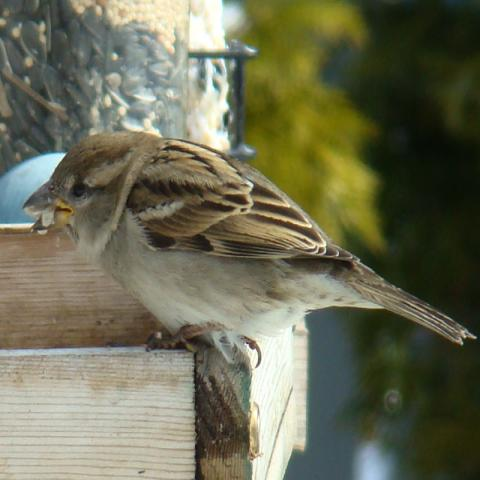bird: (21, 127, 476, 368)
